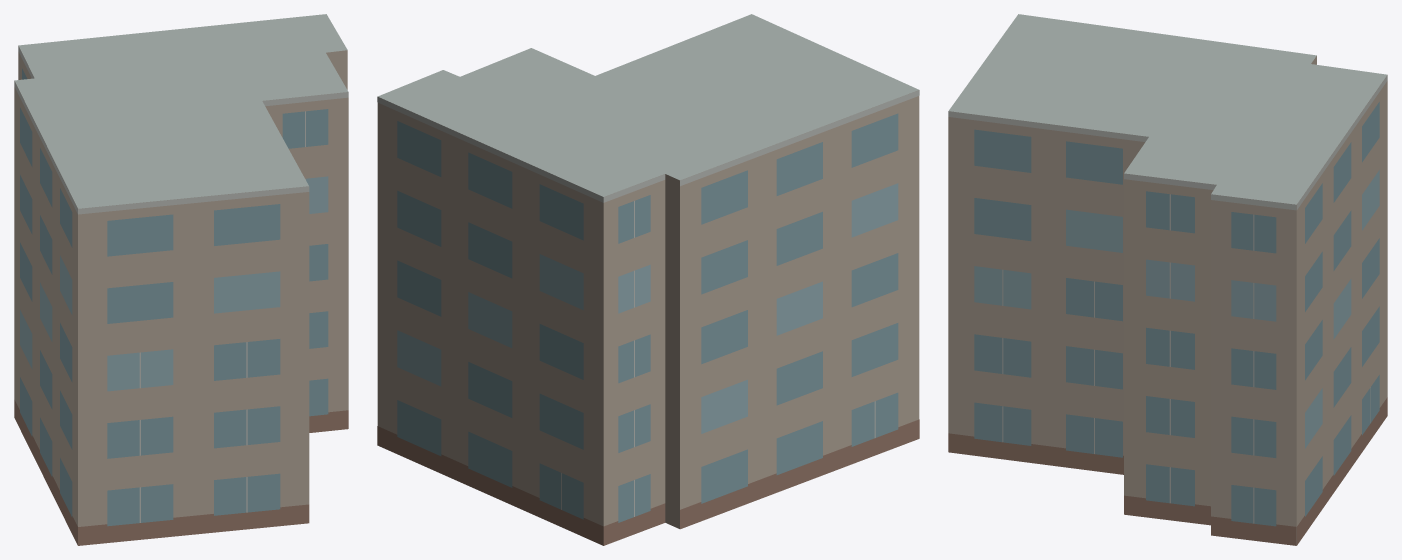
File: survey-upis-33047032.glb
The picture shows the model from 3 angles, left to right: view 1: azimuth 30°, elevation 25°; view 2: azimuth 150°, elevation 25°; view 3: azimuth 270°, elevation 25°; orthographic projection. The views are drawn at different scales.
Visible parts, largest first — view 1: survey-upis-33047032.tmp; view 2: survey-upis-33047032.tmp; view 3: survey-upis-33047032.tmp.
Part boxes in pixels (x1,y1,x2,y2): survey-upis-33047032.tmp: (14,14,348,545); survey-upis-33047032.tmp: (377,14,919,545); survey-upis-33047032.tmp: (948,14,1387,545).
Bounding box in the file's own units: 17.33 × 14.45 × 16.87.
